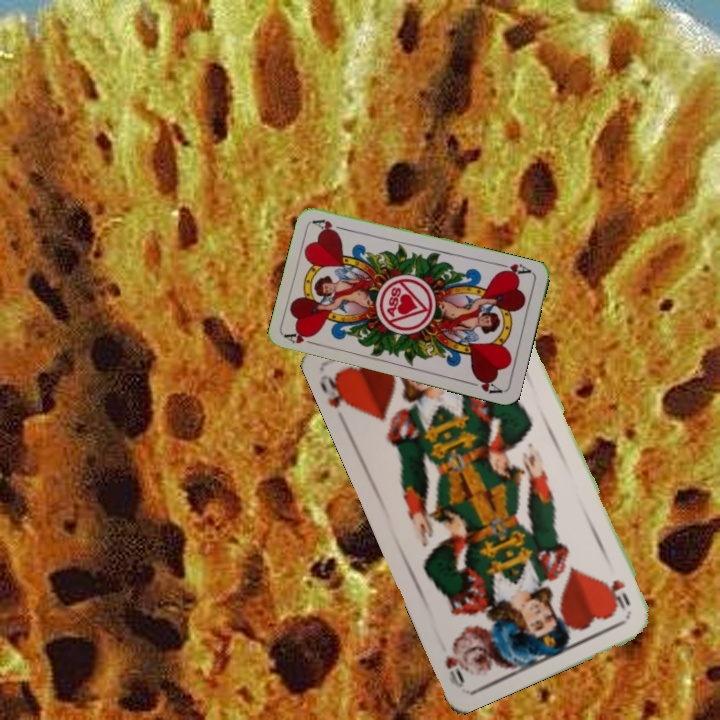HA: (494, 259, 534, 280), (282, 328, 322, 348)
HO: (315, 368, 355, 411), (607, 575, 633, 614)
